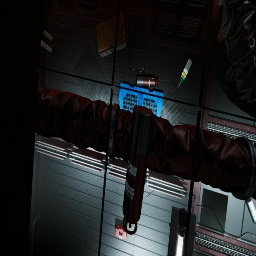0: (178, 59, 192, 87), (246, 198, 256, 224)
FirstAidBox ,: (115, 225, 127, 240)
NitrogenTank ,: (122, 105, 154, 235), (137, 76, 158, 87)
